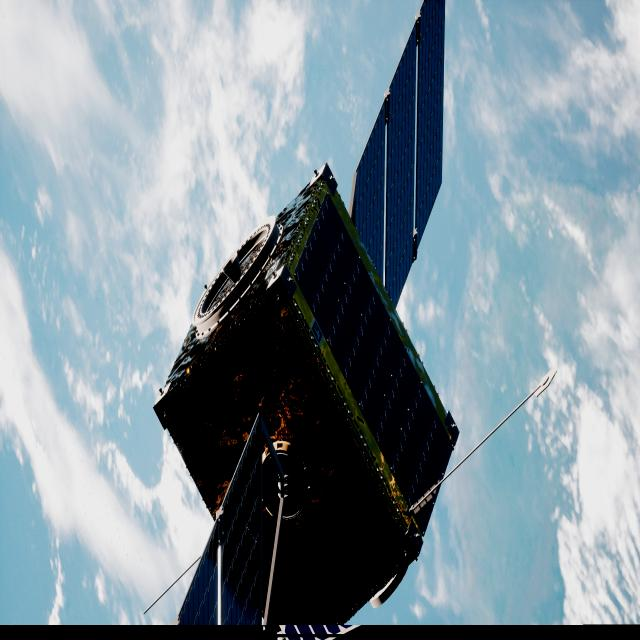medium_debris: (153, 0, 461, 633)
